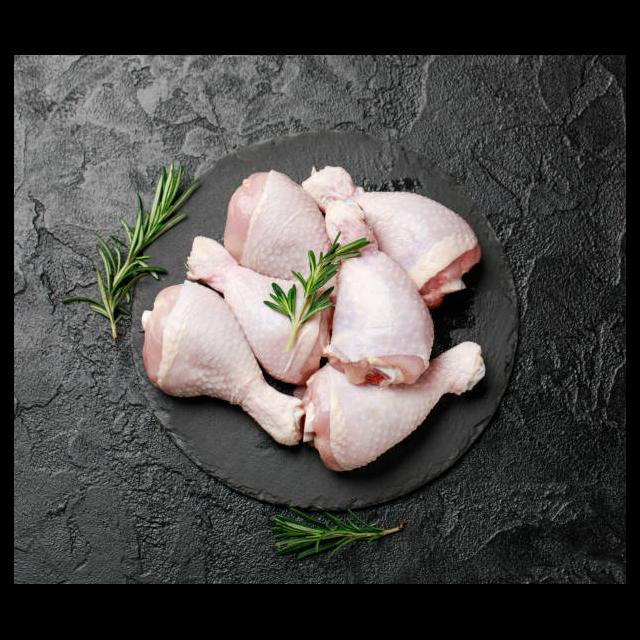chicken: (301, 344, 487, 472), (147, 294, 305, 442), (320, 199, 433, 387), (184, 237, 328, 382), (363, 186, 479, 303), (221, 173, 329, 291)
